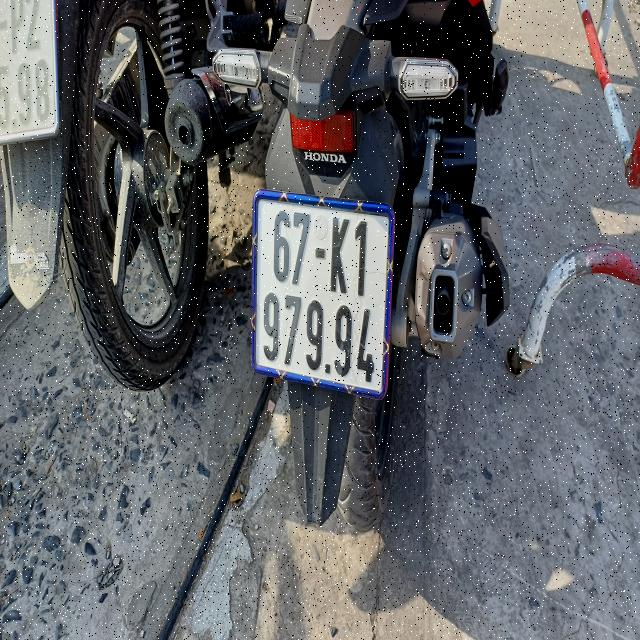1: (354, 216, 372, 298)
4: (355, 310, 377, 381)
6: (270, 206, 292, 284)
7: (289, 207, 312, 285), (302, 295, 325, 367), (282, 293, 302, 367)
9: (259, 294, 282, 363), (332, 304, 351, 380)
K: (330, 214, 350, 296)
